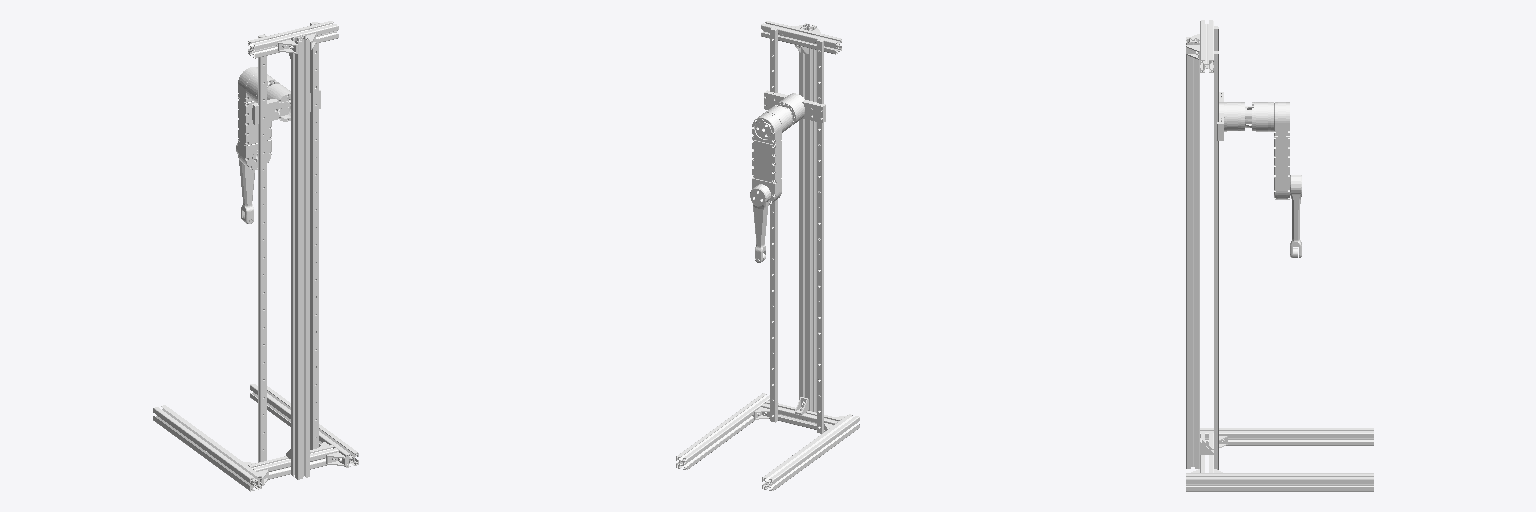
robot.urdf — tsdt:
<?xml version="1.0" encoding="utf-8"?>
<!-- =================================================================================== -->
<!-- |    This document was autogenerated by xacro from tsdt.urdf.xacro                | -->
<!-- |    EDITING THIS FILE BY HAND IS NOT RECOMMENDED                                 | -->
<!-- =================================================================================== -->
<robot name="tsdt">
  <material name="white">
    <color rgba="1.0 1.0 1.0 1.0"/>
  </material>
  <link name="world"/>
  <joint name="fixed" type="fixed">
    <parent link="world"/>
    <child link="stand"/>
  </joint>
  <link name="stand">
    <visual>
      <geometry>
        <mesh filename="package://tsdt_description/meshes/stand.STL"/>
      </geometry>
      <origin rpy="0 0 0" xyz="0 0 0"/>
      <material name="white"/>
    </visual>
    <collision>
      <geometry>
        <mesh filename="package://tsdt_description/meshes/stand.STL"/>
      </geometry>
      <origin rpy="0 0 0" xyz="0 0 0"/>
    </collision>
    <inertial>
      <mass value="5.0"/>
      <origin rpy="0 0 0" xyz="0 0 0 "/>
      <inertia ixx="0" ixy="0" ixz="0" iyy="0" iyz="0" izz="0"/>
    </inertial>
  </link>
  <!--joint name="joint0" type="fixed">
    <origin xyz="0 0 0.82" rpy="0 0 0"/>
    <parent link="stand"/>
    <child link="leg1"/>
  </joint-->
  <joint name="joint0" type="prismatic">
    <origin rpy="0 0 0" xyz="0 0 0.82"/>
    <axis xyz="0 0 1"/>
    <parent link="stand"/>
    <child link="leg1"/>
    <limit effort="100" lower="-0.738" upper="0.098" velocity="1.0"/>
  </joint>
  <link name="leg1">
    <visual>
      <geometry>
        <mesh filename="package://tsdt_description/meshes/leg1.STL"/>
      </geometry>
      <origin rpy="0 0 0" xyz="0 0 -0.82"/>
      <material name="white"/>
    </visual>
    <collision>
      <geometry>
        <mesh filename="package://tsdt_description/meshes/leg1.STL"/>
      </geometry>
      <origin rpy="0 0 0" xyz="0 0 -0.82"/>
    </collision>
    <inertial>
      <mass value="5.0"/>
      <origin rpy="0 0 0" xyz="0 0 0 "/>
      <inertia ixx="0" ixy="0" ixz="0" iyy="0" iyz="0" izz="0"/>
    </inertial>
  </link>
  <joint name="joint1" type="continuous">
    <origin rpy="0 0 0" xyz="0 0.043 0"/>
    <axis xyz="0 1 0"/>
    <parent link="leg1"/>
    <child link="leg2"/>
  </joint>
  <link name="leg2">
    <visual>
      <geometry>
        <mesh filename="package://tsdt_description/meshes/leg2.STL"/>
      </geometry>
      <origin rpy="0 0 0" xyz="0 -0.043 -0.82"/>
      <material name="white"/>
    </visual>
    <collision>
      <geometry>
        <mesh filename="package://tsdt_description/meshes/leg2.STL"/>
      </geometry>
      <origin rpy="0 0 0" xyz="0 -0.043 -0.82"/>
    </collision>
    <inertial>
      <mass value="5.0"/>
      <origin rpy="0 0 0" xyz="0 0 0 "/>
      <inertia ixx="0" ixy="0" ixz="0" iyy="0" iyz="0" izz="0"/>
    </inertial>
  </link>
  <joint name="joint2" type="continuous">
    <origin rpy="0 0 0" xyz="0 0.097 -0.16"/>
    <axis xyz="0 1 0"/>
    <parent link="leg2"/>
    <child link="leg3"/>
  </joint>
  <link name="leg3">
    <visual>
      <geometry>
        <mesh filename="package://tsdt_description/meshes/leg3.STL"/>
      </geometry>
      <origin rpy="0 0 0" xyz="0 -0.14 -0.66"/>
      <material name="white"/>
    </visual>
    <collision>
      <geometry>
        <mesh filename="package://tsdt_description/meshes/leg2.STL"/>
      </geometry>
      <origin rpy="0 0 0" xyz="0 -0.14 -0.66"/>
    </collision>
    <inertial>
      <mass value="5.0"/>
      <origin rpy="0 0 0" xyz="0 0 0 "/>
      <inertia ixx="0" ixy="0" ixz="0" iyy="0" iyz="0" izz="0"/>
    </inertial>
  </link>
  <joint name="joint3" type="fixed">
    <origin rpy="0 0 0" xyz="0 0 -0.16"/>
    <parent link="leg3"/>
    <child link="leg4"/>
  </joint>
  <link name="leg4"/>
</robot>

--- Render facts (derived) ---
3 views of the same robot in one strip: view 1: azimuth 30°, elevation 25°; view 2: azimuth 150°, elevation 25°; view 3: azimuth 270°, elevation 25° (orthographic).
Model tsdt with 6 links and 5 joints (2 continuous, 1 prismatic, 2 fixed), rooted at world, posed every joint at zero.
Links seen in each view (by area): view 1: stand, leg2, leg1, leg3; view 2: stand, leg2, leg1, leg3; view 3: stand, leg2, leg1, leg3.
Boxes of the visible links, <box> form: stand: <box>153,21,358,491</box>; leg2: <box>238,67,279,169</box>; leg1: <box>252,84,320,124</box>; leg3: <box>236,143,254,223</box>; stand: <box>676,21,859,490</box>; leg2: <box>752,105,792,204</box>; leg1: <box>764,90,825,125</box>; leg3: <box>750,184,770,262</box>; stand: <box>1186,20,1373,491</box>; leg2: <box>1245,102,1289,199</box>; leg1: <box>1217,92,1244,140</box>; leg3: <box>1290,175,1301,257</box>.
Bounding box of the posed robot: 0.26 × 0.4 × 1 m (x, y, z).
Meshes: 4 distinct files referenced, 4 mesh visuals loaded (4 binary STL).